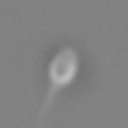normal: (35, 86, 62, 124)
